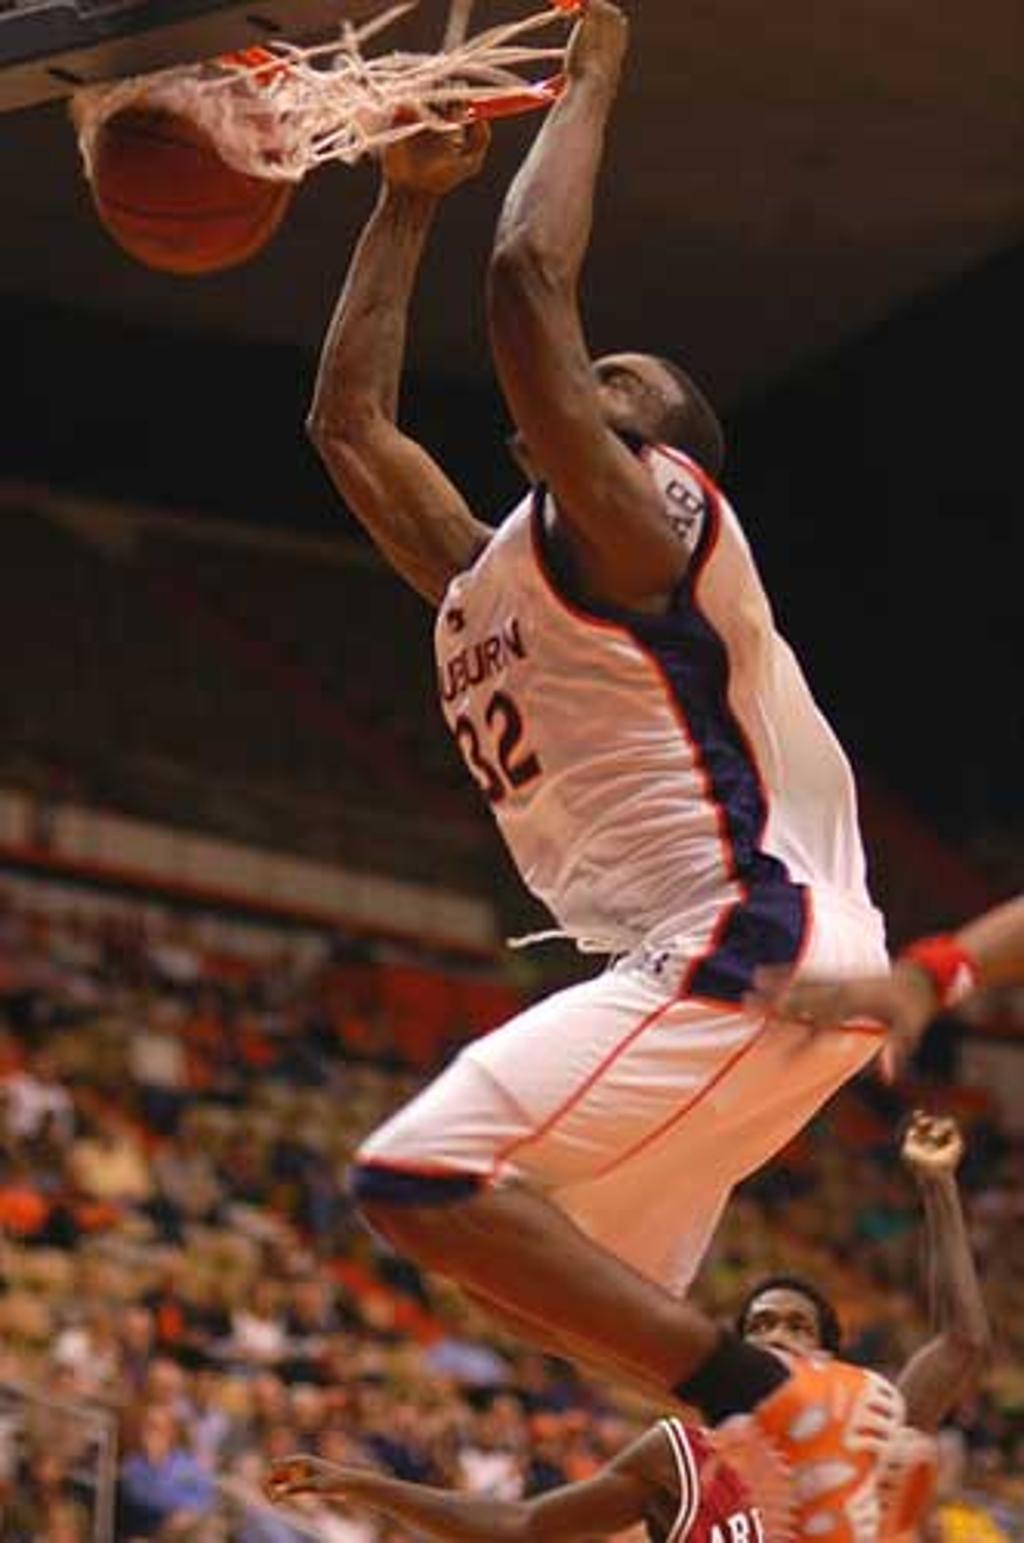face: (510, 350, 697, 483)
